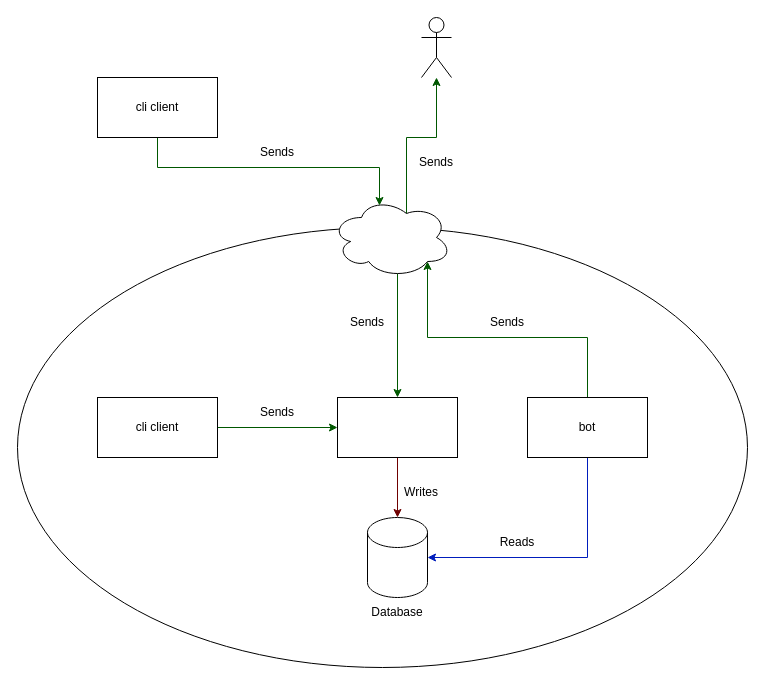
Some shapes in this 765 by 685 pixel diagram are drawn without their labels. Each missing label, with the box of its shape:
api service: (336, 396, 458, 458)
Discord Guild: (420, 16, 452, 78)
